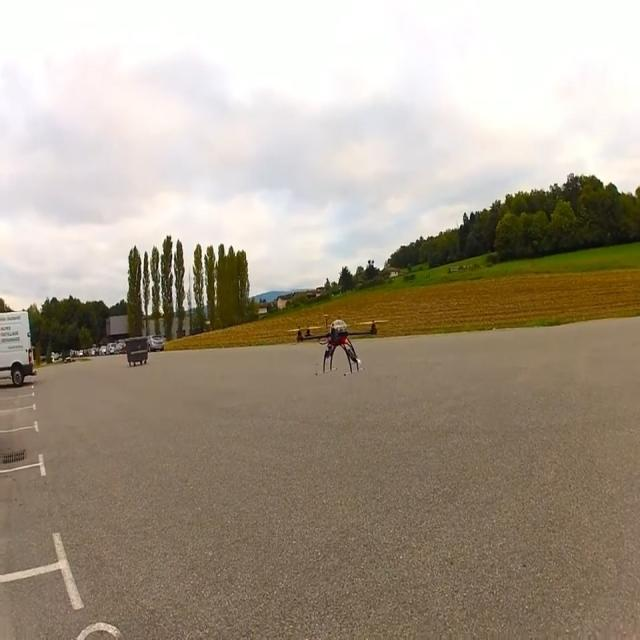drone: (290, 315, 386, 377)
